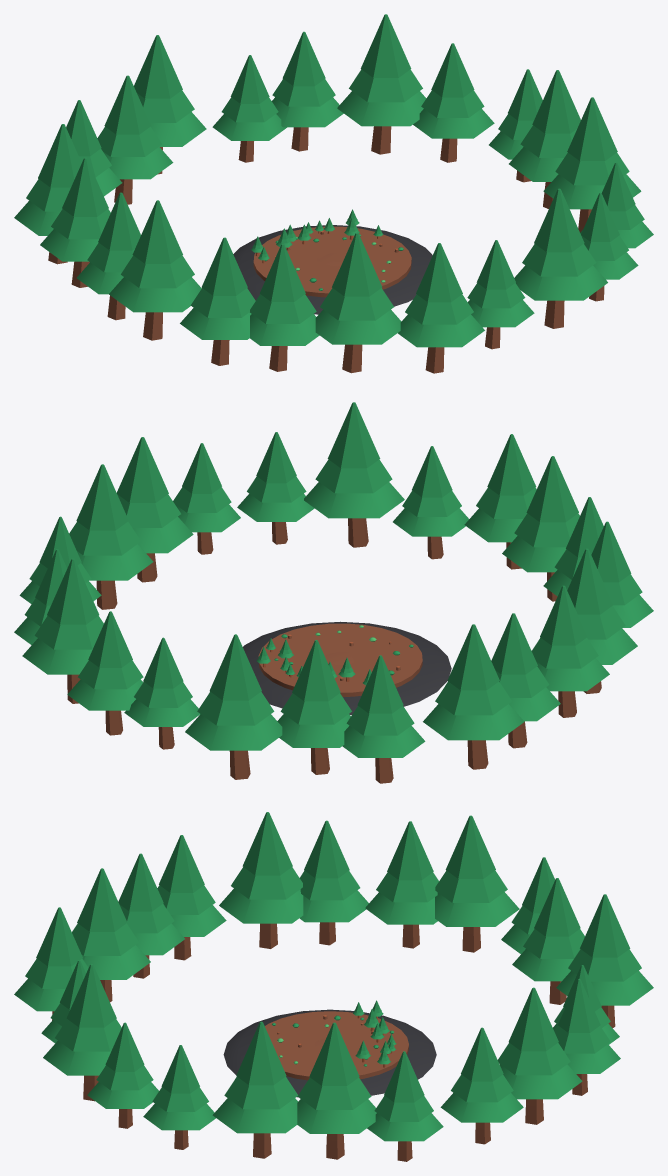
The model's file is silk_widow.glb.
The picture shows the model from 3 angles, top to bottom: view 1: azimuth 30°, elevation 25°; view 2: azimuth 150°, elevation 25°; view 3: azimuth 270°, elevation 25°; orthographic projection. The views are drawn at different scales.
Parts seen in each view (by area): view 1: SilkWidowGround; view 2: SilkWidowGround; view 3: SilkWidowGround.
Boxes of the visible parts, box(x1,y1,x2,y2) form: SilkWidowGround: box(14, 14, 653, 373); SilkWidowGround: box(14, 402, 653, 783); SilkWidowGround: box(14, 812, 653, 1161).
Bounding box in the file's own units: 44.65 × 11.9 × 48.64.
1 material, 1 textured.
